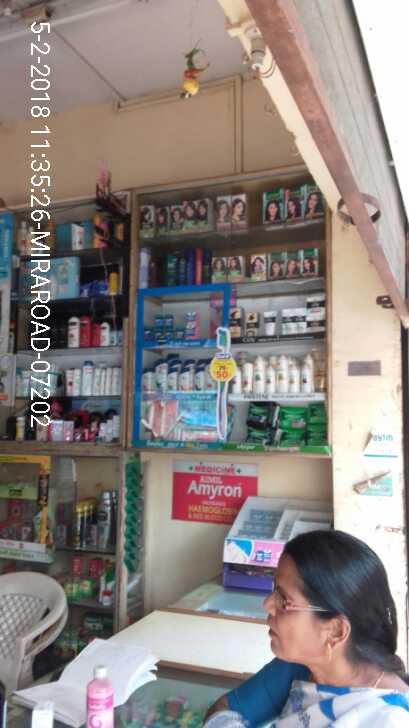beauty: (283, 307, 306, 335), (227, 308, 245, 337), (276, 353, 288, 395), (299, 360, 314, 391), (153, 361, 167, 394), (264, 307, 279, 336), (255, 355, 265, 395), (308, 297, 326, 319), (240, 364, 253, 394), (287, 364, 299, 394), (165, 369, 179, 394), (245, 310, 257, 338), (193, 367, 205, 391), (177, 368, 189, 392), (141, 368, 153, 392), (265, 365, 274, 394), (308, 319, 326, 332)
pharmacy: (245, 398, 282, 427), (280, 405, 304, 425), (307, 423, 323, 449), (278, 429, 302, 445), (306, 401, 323, 423)
